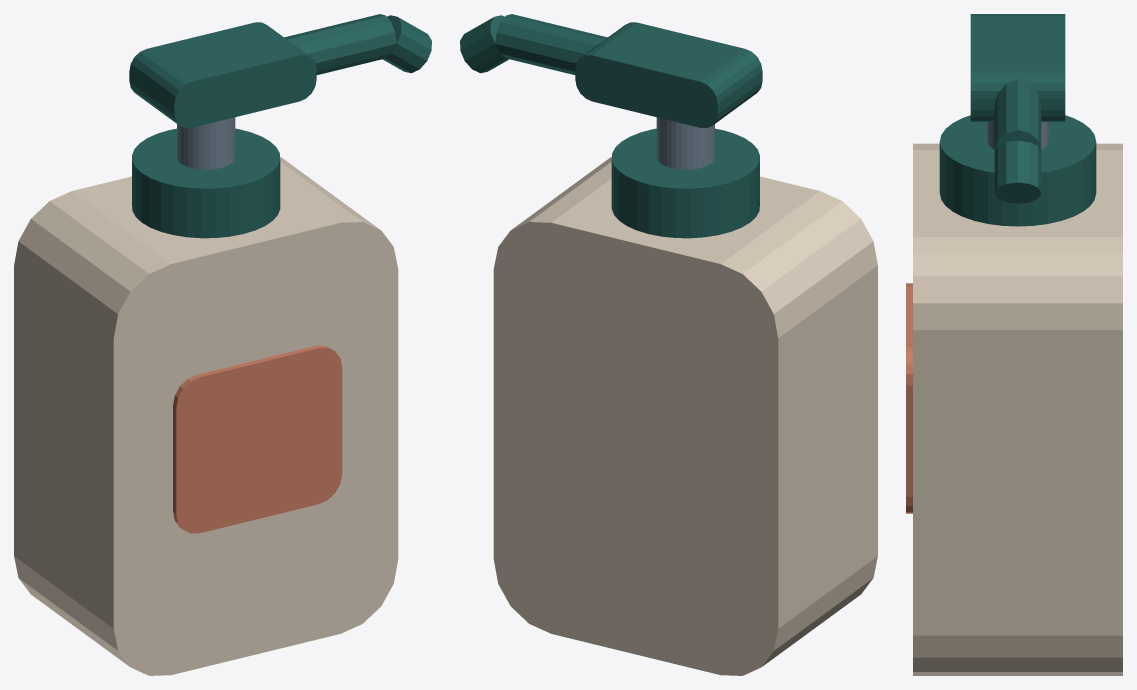
File: pump.glb
The picture shows the model from 3 angles, left to right: view 1: azimuth 30°, elevation 25°; view 2: azimuth 150°, elevation 25°; view 3: azimuth 270°, elevation 25°; orthographic projection. The views are drawn at different scales.
Visible parts, largest first — view 1: bottle body, label, pump head, neck, spout0, piston, spout1; view 2: bottle body, pump head, neck, spout0, piston, spout1; view 3: bottle body, neck, pump head, spout1, spout0, label, piston.
Boxes of the visible parts, x1=… form: bottle body: x1=14, y1=157, x2=398, y2=675; label: x1=173, y1=345, x2=342, y2=533; pump head: x1=129, y1=22, x2=316, y2=127; neck: x1=132, y1=128, x2=280, y2=238; spout0: x1=284, y1=14, x2=396, y2=74; piston: x1=177, y1=117, x2=235, y2=169; spout1: x1=383, y1=15, x2=431, y2=73; bottle body: x1=493, y1=157, x2=877, y2=675; pump head: x1=575, y1=22, x2=762, y2=127; neck: x1=611, y1=128, x2=759, y2=238; spout0: x1=495, y1=14, x2=607, y2=74; piston: x1=656, y1=117, x2=714, y2=169; spout1: x1=460, y1=15, x2=508, y2=73; bottle body: x1=913, y1=143, x2=1122, y2=675; neck: x1=939, y1=115, x2=1096, y2=226; pump head: x1=970, y1=14, x2=1065, y2=121; spout1: x1=994, y1=140, x2=1041, y2=203; spout0: x1=994, y1=79, x2=1041, y2=150; label: x1=906, y1=283, x2=912, y2=513; piston: x1=987, y1=122, x2=1048, y2=149.
Bounding box in the file's own units: 1.07 × 1.58 × 0.527.
